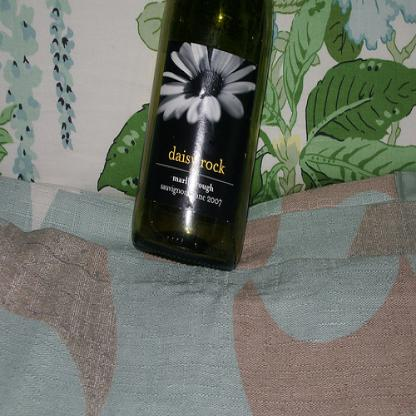bottle: (130, 0, 274, 272)
